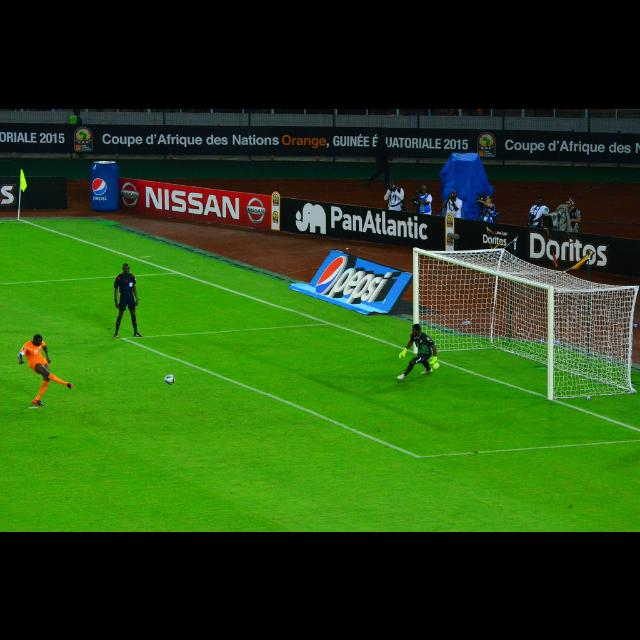Football: (164, 373, 174, 383)
